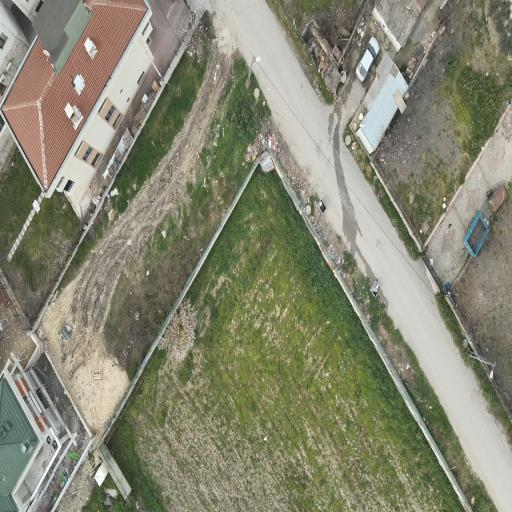car: (356, 37, 379, 82)
